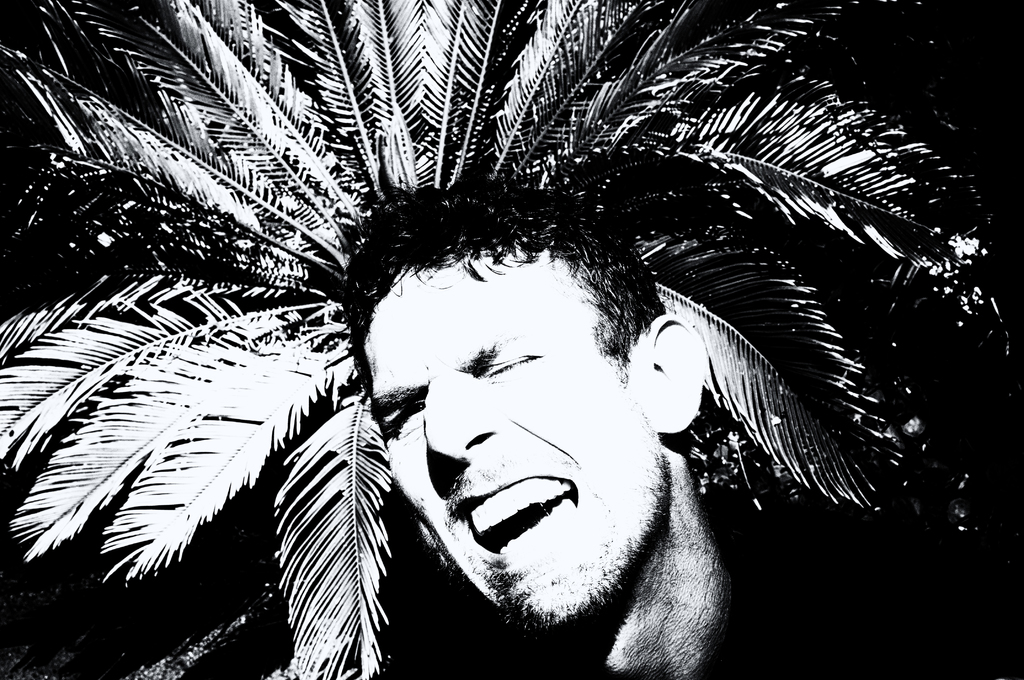Human-face: (351, 269, 659, 626)
